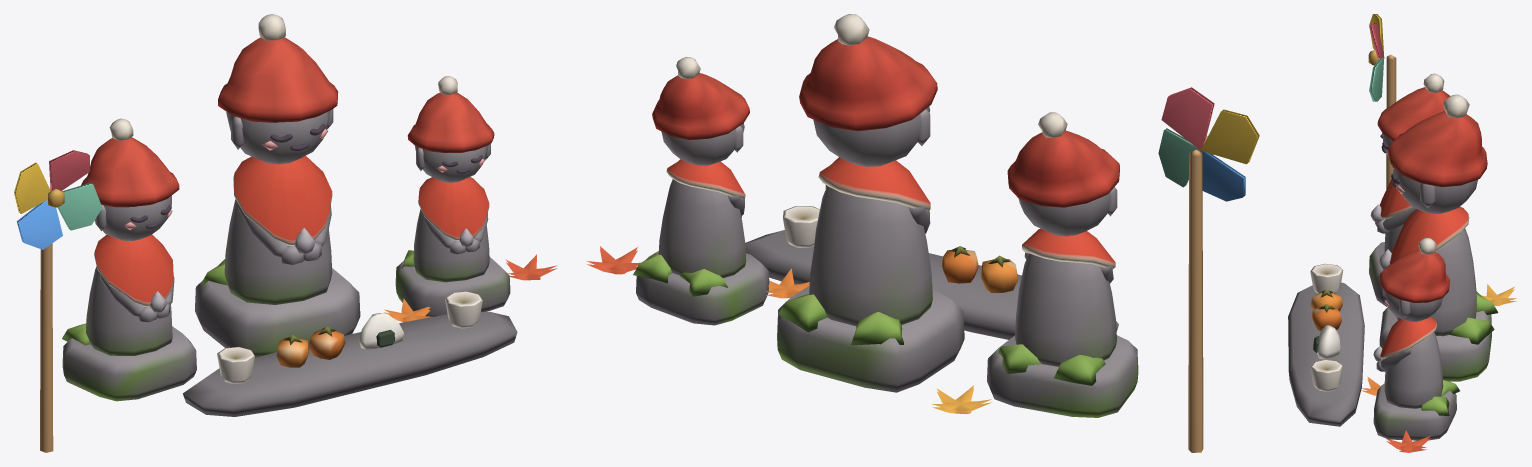
Rendered from rg-maple-jizoTrio.glb.
3 renders of one model, left to right at view 1: azimuth 30°, elevation 25°; view 2: azimuth 150°, elevation 25°; view 3: azimuth 270°, elevation 25°, orthographic. The views are drawn at different scales.
Visible parts, largest first — view 1: jizoTrio; view 2: jizoTrio; view 3: jizoTrio.
Boxes of the visible parts, x1,y1,x2,y2 form: jizoTrio: (14, 14, 557, 452); jizoTrio: (586, 14, 1259, 452); jizoTrio: (1288, 14, 1516, 452).
Size of the model in its own units: 1.47 by 0.8623 by 0.6081.
